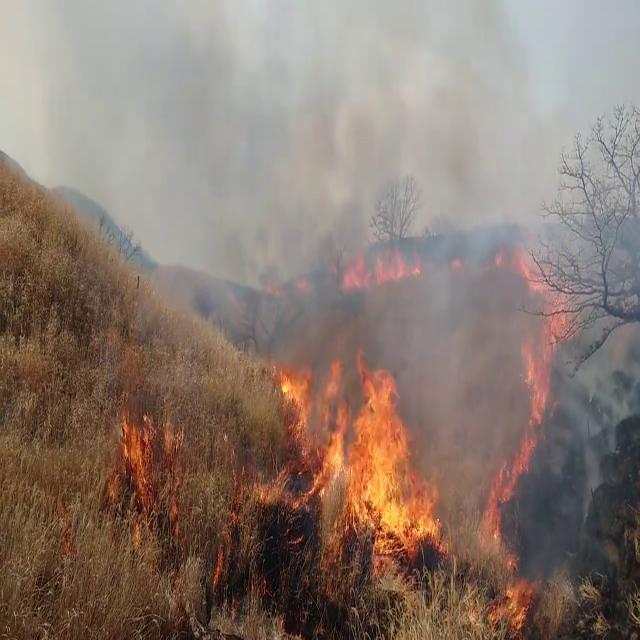Fire: (312, 326, 447, 592), (466, 477, 533, 640), (112, 379, 195, 486), (516, 228, 574, 332), (273, 344, 318, 460), (513, 336, 553, 464), (335, 250, 419, 298), (251, 453, 304, 512)
Smoke: (133, 0, 616, 341)
